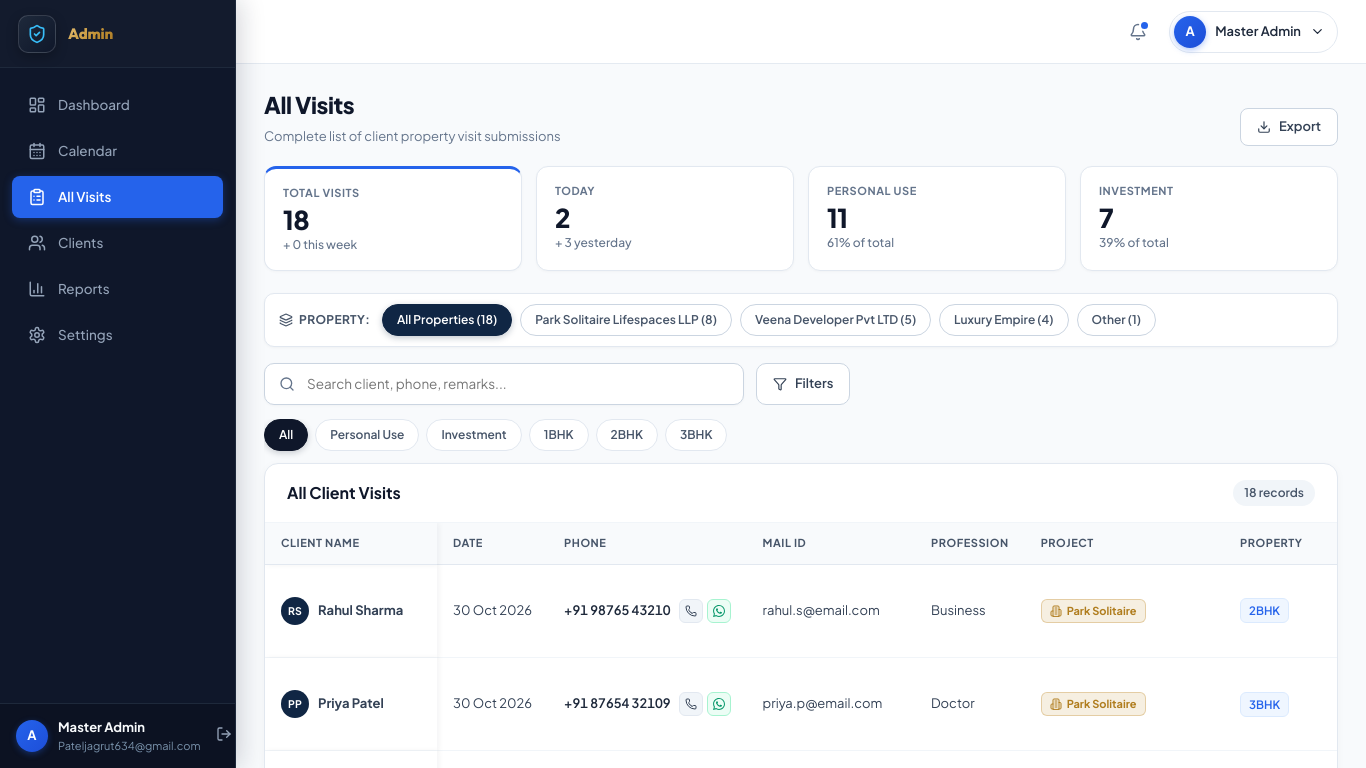
Test case: Park Solitaire Client Visit App › Interactive Quick Chips & Mobile Usability › shows search clear button and handles zero-result empty states
// Type query
In the field with placeholder "Search client, phone, remarks...": (517, 384) 305,373 -> 729,395, type "NonExistentClient999"
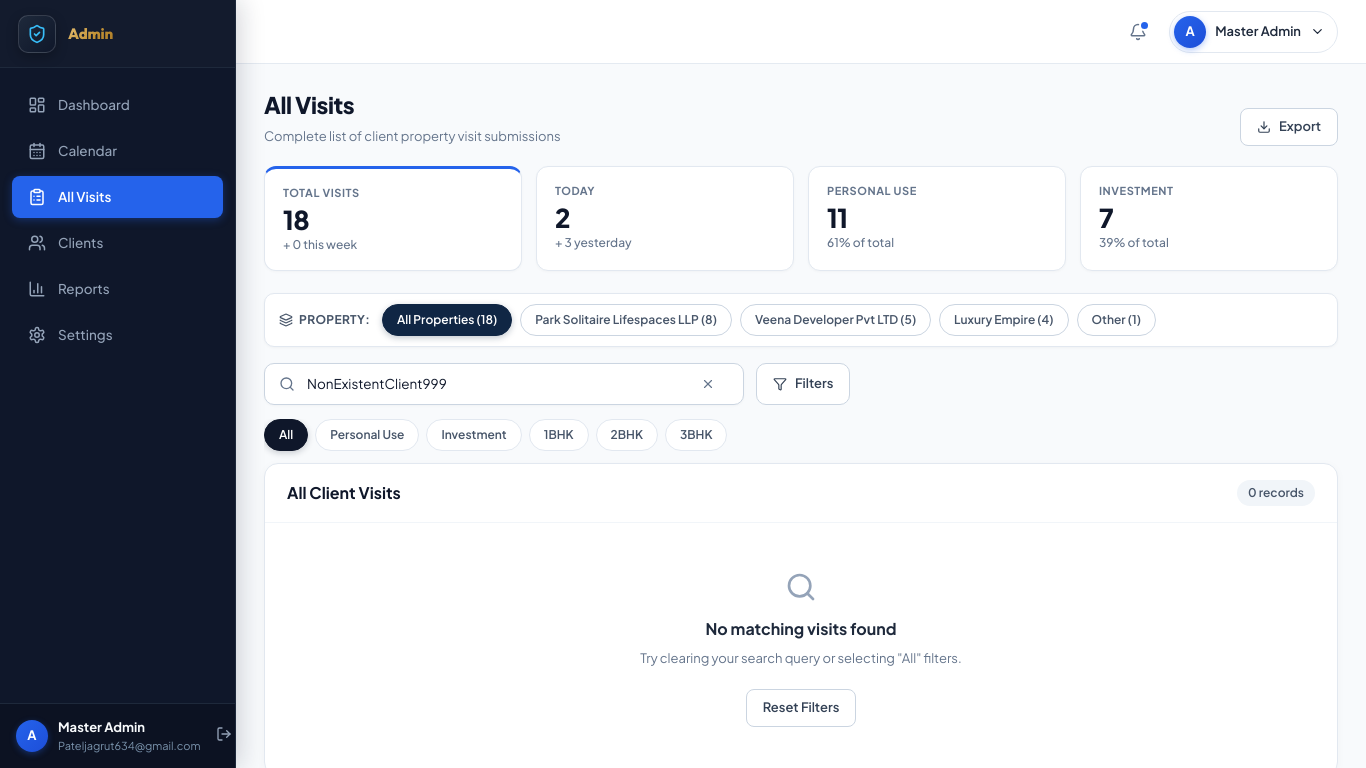
Expected: the heading "No matching visits found" is shown, 706,617 -> 896,641
Expected: the button "Reset Filters" is shown, 746,689 -> 856,727
Expected: the button titled "Clear search" is shown
Click the button titled "Clear search": (713, 384) 697,373 -> 729,395
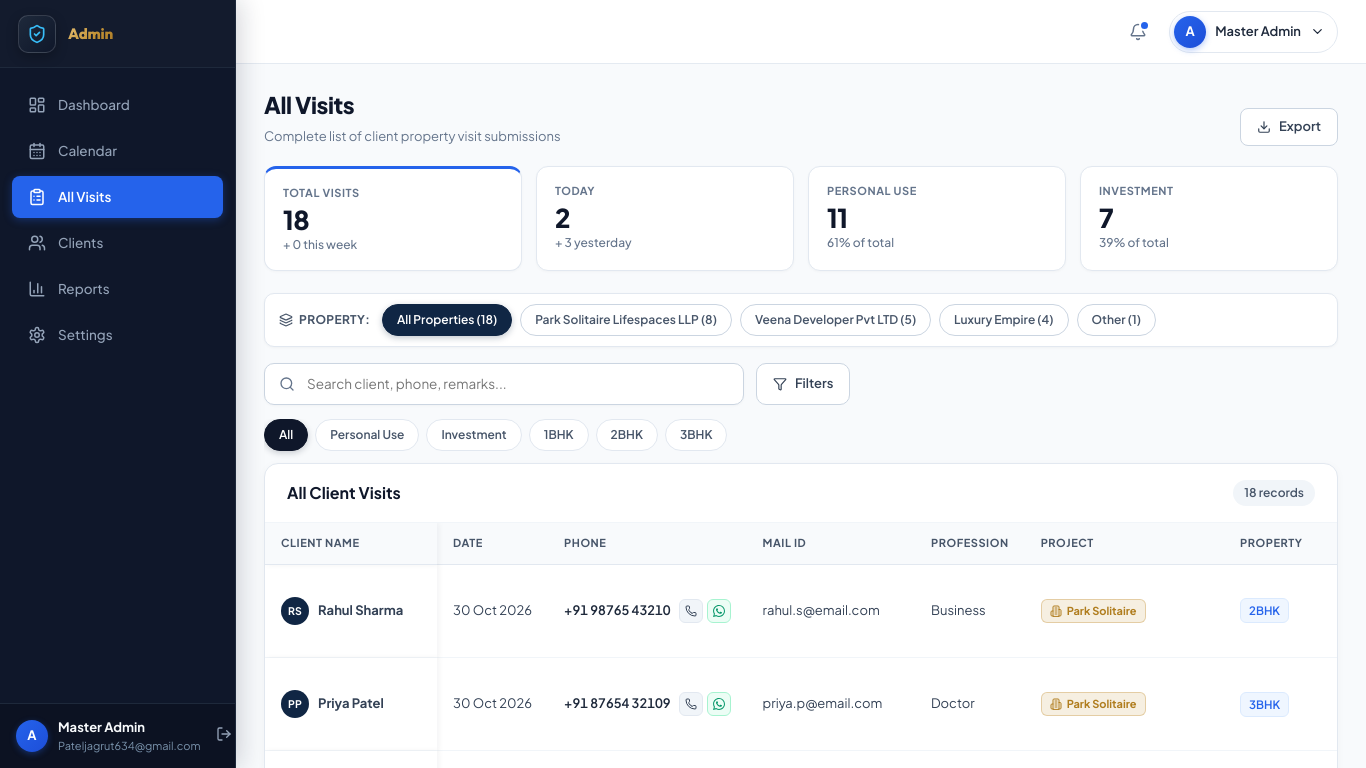
Expected: the text "Rahul Sharma" is shown, 318,601 -> 403,620
Expected: the heading "No matching visits found" is gone
